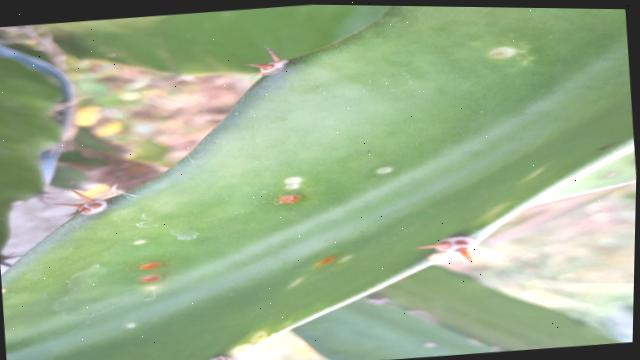stemcanker: (311, 250, 342, 271), (270, 190, 305, 208), (134, 258, 165, 275), (134, 273, 163, 291)
